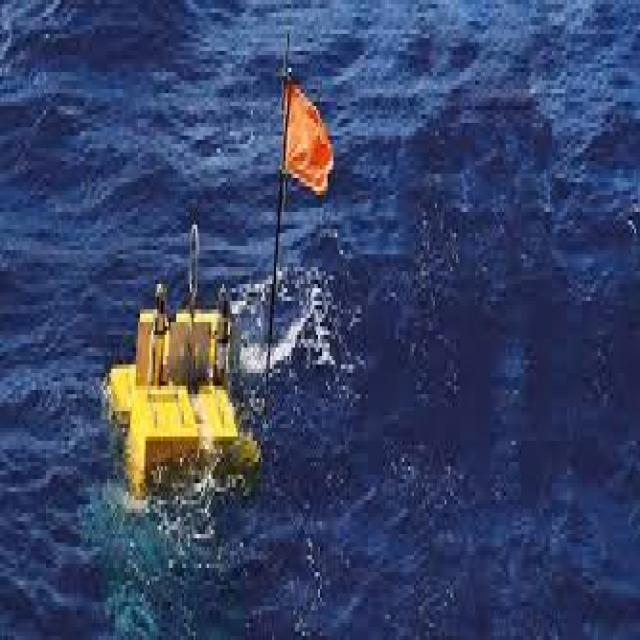2.5 sepcial mark: (101, 206, 261, 505)
